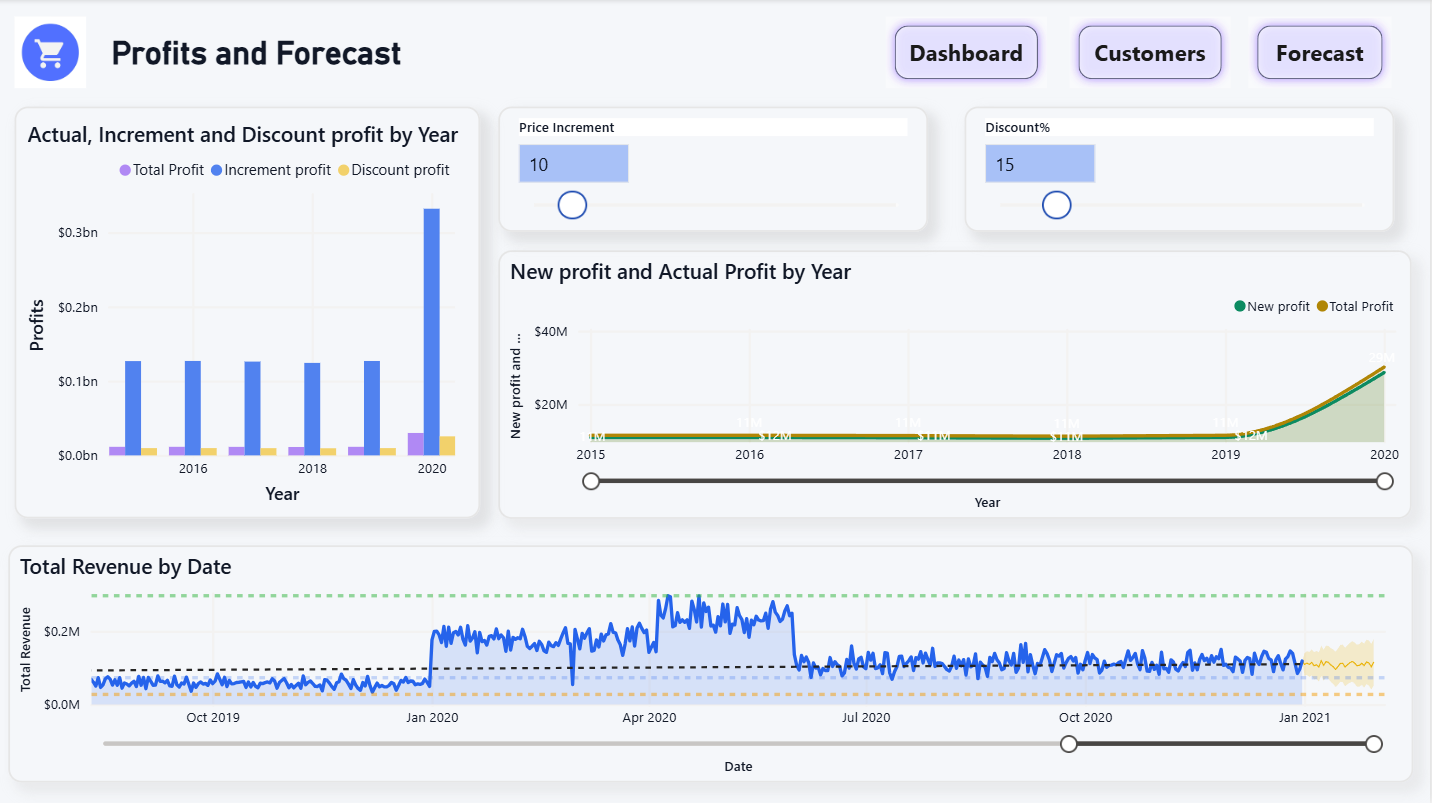

The page's visual inventory and layout, read from the dashboard file:
{"tool":"powerbi","page":{"name":"Forecast","canvas":[1280,720],"ordinal":2},"visuals":[{"type":"textbox","box":[16,16,528,64],"z":0},{"type":"lineChart","fields":{"Y":["All Measures.Total Revenue"],"Category":["Dim Calendar.Date"]},"box":[10,488.1,1255.3,211.8],"z":1000},{"type":"lineChart","title":"New profit and Actual Profit by Year","fields":{"Category":["Dim Calendar.Year"],"Y":["All Measures.New profit","All Measures.Total Profit"]},"box":[448,224,816,240],"z":2000},{"type":"clusteredColumnChart","title":"Actual, Increment and Discount profit by Year","fields":{"Y":["All Measures.Total Profit","All Measures.Profit Increment","All Measures.Discount profit"],"Category":["Dim Calendar.Year"]},"box":[16,96,416,368],"z":3000},{"type":"slicer","fields":{"Values":["Price increment.Price increment"]},"box":[448,96,384,112],"z":5000},{"type":"slicer","fields":{"Values":["Discount%.Discount%"]},"box":[864,96,384,112],"z":7000},{"type":"image","box":[16,16,64,64],"z":11001},{"type":"actionButton","box":[958.2,16,144,64],"z":11002},{"type":"actionButton","box":[1118.2,16,128,64],"z":11003},{"type":"actionButton","box":[794.3,16,144,64],"z":11004}]}

Visuals, with their boxes in screenshot pixels (x1, y1, x2, y2), scaled from the page's 1280x720 canvas onto the 1432x803 screenshot:
textbox: (x1=18, y1=18, x2=609, y2=89)
lineChart - All Measures.Total Revenue x Dim Calendar.Date: (x1=11, y1=544, x2=1416, y2=781)
"New profit and Actual Profit by Year" lineChart: (x1=501, y1=250, x2=1414, y2=517)
"Actual, Increment and Discount profit by Year" clusteredColumnChart: (x1=18, y1=107, x2=483, y2=517)
slicer - Price increment.Price increment: (x1=501, y1=107, x2=931, y2=232)
slicer - Discount%.Discount%: (x1=967, y1=107, x2=1396, y2=232)
image: (x1=18, y1=18, x2=90, y2=89)
actionButton: (x1=1072, y1=18, x2=1233, y2=89)
actionButton: (x1=1251, y1=18, x2=1394, y2=89)
actionButton: (x1=889, y1=18, x2=1050, y2=89)
